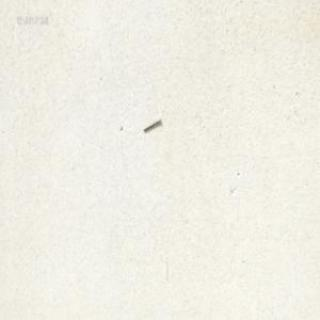Bolttrack_idkeyframe: (142, 116, 160, 130)
